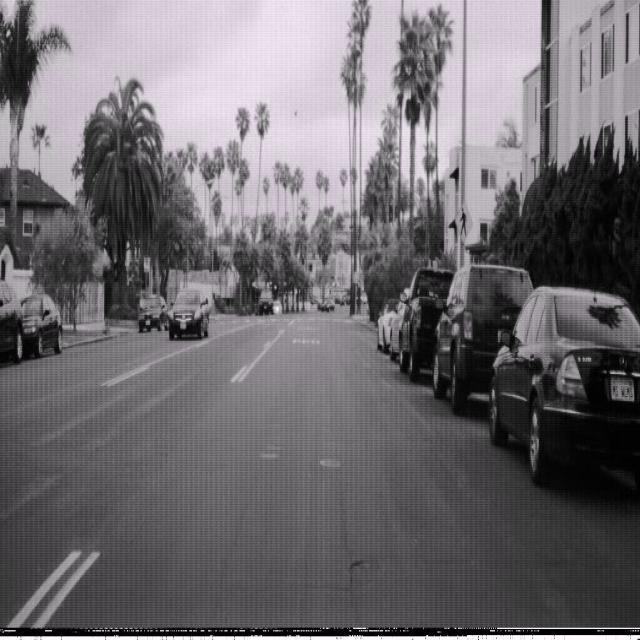pedestrianCrossing: (454, 200, 474, 244)
